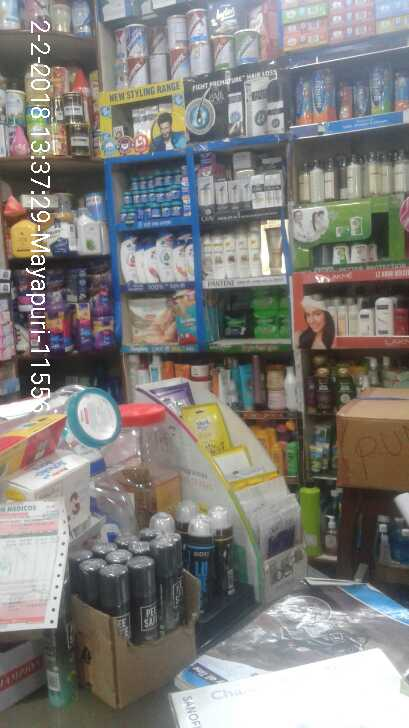vicks: (116, 163, 195, 226)
